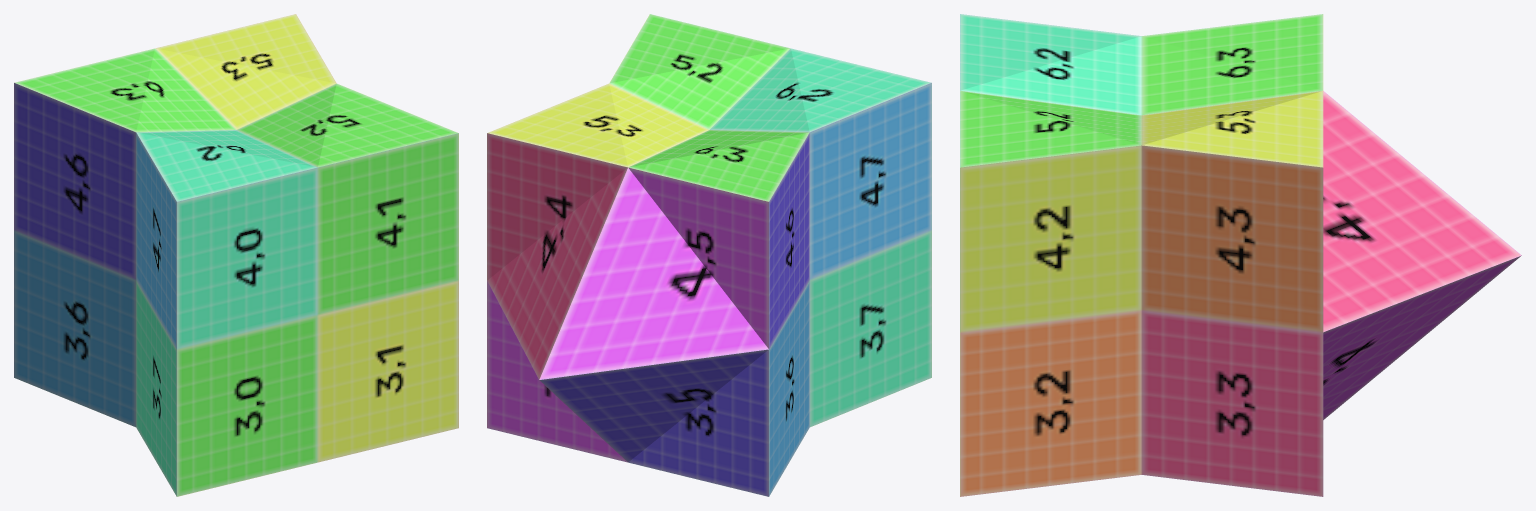
File: Enemy.obj
3 renders of one model, left to right at view 1: azimuth 30°, elevation 25°; view 2: azimuth 150°, elevation 25°; view 3: azimuth 270°, elevation 25°, orthographic. The views are drawn at different scales.
Parts seen in each view (by area): view 1: Cube; view 2: Cube; view 3: Cube.
Boxes of the visible parts, bbox=[...] form: Cube: bbox=[14, 14, 458, 496]; Cube: bbox=[487, 14, 931, 496]; Cube: bbox=[960, 14, 1521, 496].
Bounding box in the file's own units: 2 × 2 × 3.09.
1 material, 1 textured.
